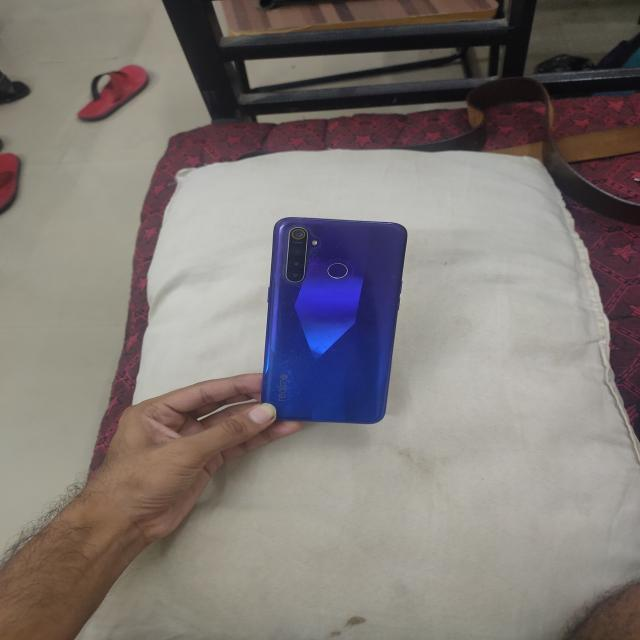Phone: (256, 213, 410, 429)
